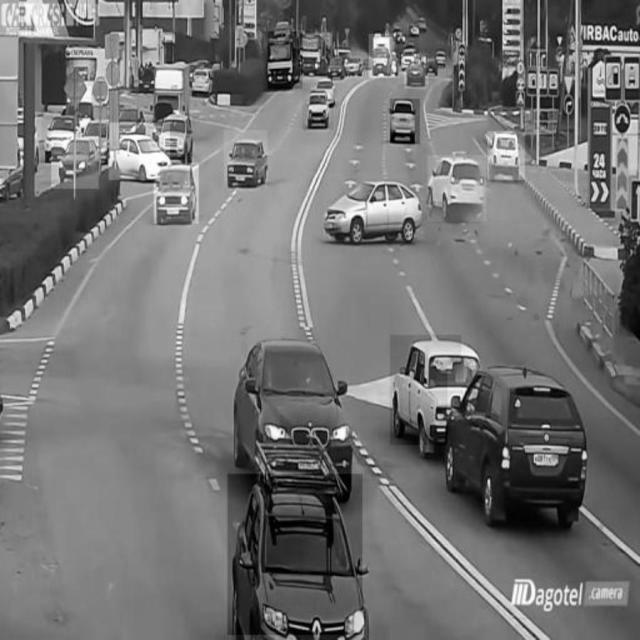vehicle: (448, 366, 589, 528), (227, 474, 363, 634), (230, 340, 356, 474), (391, 334, 462, 445), (325, 173, 423, 241), (427, 156, 485, 222), (109, 123, 170, 180), (154, 163, 199, 224), (51, 135, 98, 190), (224, 131, 268, 188), (267, 32, 303, 89), (42, 109, 77, 161), (488, 131, 525, 179), (390, 99, 420, 144), (303, 89, 333, 130), (369, 34, 395, 78), (404, 54, 429, 89), (190, 62, 214, 96)
